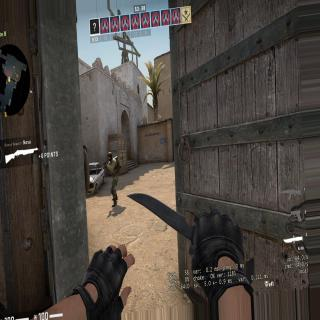CT-Body: (104, 150, 122, 200)
CT-Head: (106, 150, 115, 160)
